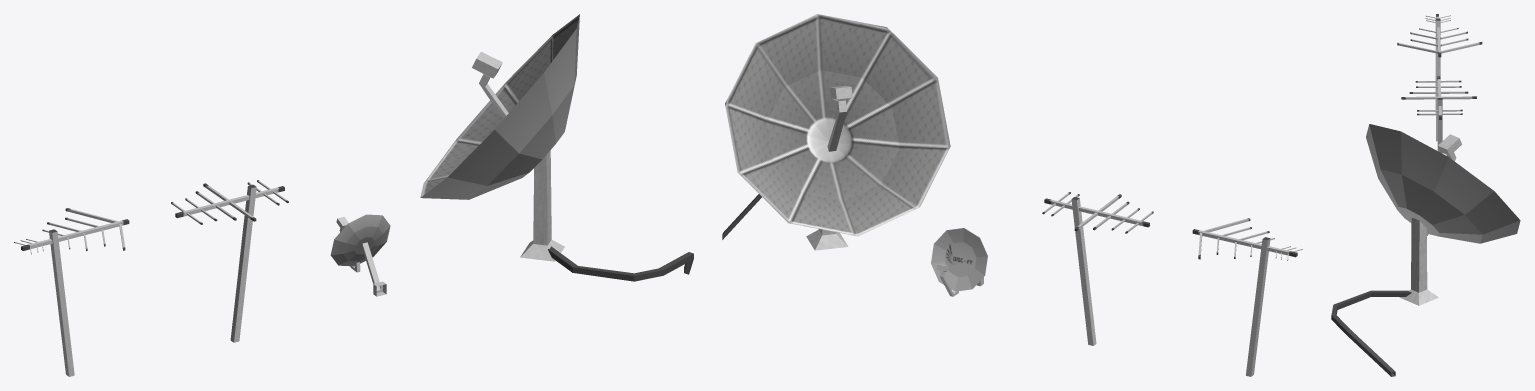
The model's file is antena_mod.fbx.
The picture shows the model from 3 angles, left to right: view 1: azimuth 30°, elevation 25°; view 2: azimuth 150°, elevation 25°; view 3: azimuth 270°, elevation 25°; orthographic projection. The views are drawn at different scales.
Parts seen in each view (by area): view 1: Cube.000, Cube.003, Cube.002, Cube.001; view 2: Cube.000, Cube.002, Cube.003, Cube.001; view 3: Cube.000, Cube.001, Cube.003.
Boxes of the visible parts, x1,y1,x2,y2 form: Cube.000: (420, 14, 693, 281); Cube.003: (171, 180, 288, 342); Cube.002: (330, 214, 390, 296); Cube.001: (14, 208, 129, 376); Cube.000: (722, 14, 950, 250); Cube.002: (931, 228, 987, 296); Cube.003: (1042, 192, 1153, 345); Cube.001: (1192, 218, 1302, 376); Cube.000: (1331, 124, 1520, 376); Cube.001: (1397, 14, 1482, 141); Cube.003: (1401, 76, 1476, 153).
Bounding box in the file's own units: 441 × 177 × 147.
